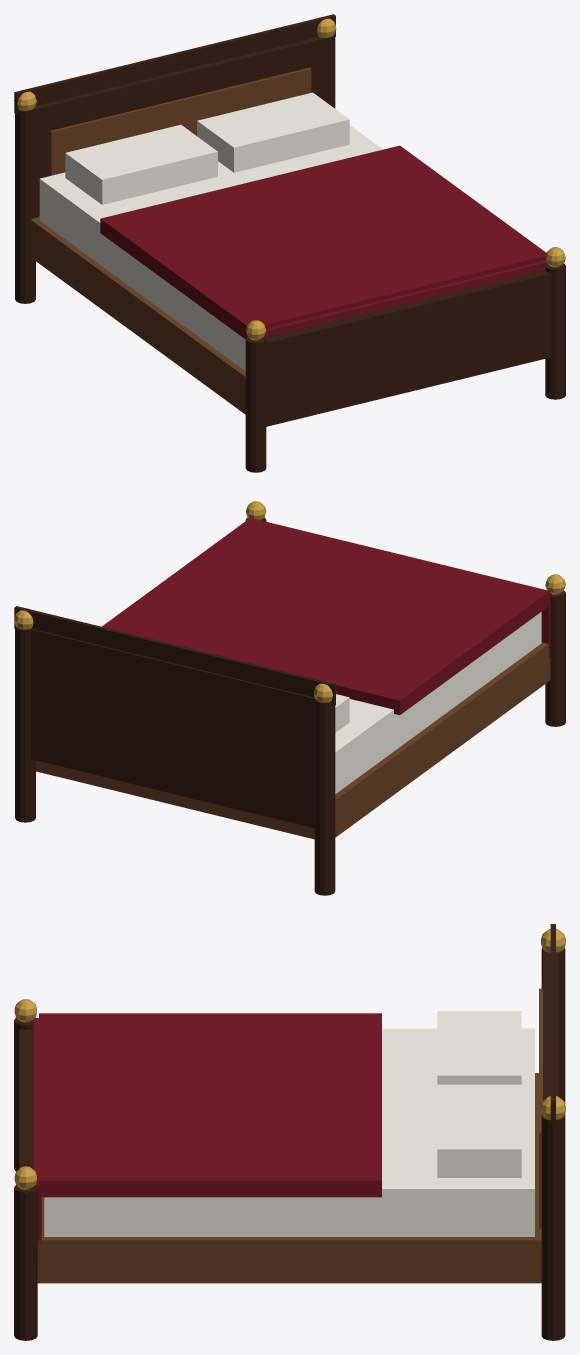
Rendered from cama_vitoriana.obj.
3 views of the same model, one above another, from view 1: azimuth 30°, elevation 25°; view 2: azimuth 150°, elevation 25°; view 3: azimuth 270°, elevation 25° (orthographic). The views are drawn at different scales.
Visible parts, largest first — view 1: parte_14_veludo_vinho, parte_11_madeira_escura, parte_13_linho, parte_01_madeira_escura, parte_12_madeira, parte_16_linho, parte_17_linho, parte_02_madeira, parte_00_madeira_escura, parte_03_madeira_escura, parte_07_madeira_escura, parte_15_veludo_vinho (+2 smaller); view 2: parte_14_veludo_vinho, parte_01_madeira_escura, parte_12_madeira, parte_13_linho, parte_00_madeira_escura, parte_03_madeira_escura, parte_04_madeira_escura, parte_07_madeira_escura; view 3: parte_14_veludo_vinho, parte_13_linho, parte_12_madeira, parte_17_linho, parte_16_linho, parte_04_madeira_escura, parte_08_madeira_escura, parte_11_madeira_escura, parte_01_madeira_escura, parte_07_madeira_escura, parte_03_madeira_escura, parte_15_veludo_vinho (+2 smaller).
Part boxes in pixels (x1,y1,x2,y2): parte_14_veludo_vinho: (100,145,546,339); parte_11_madeira_escura: (266,269,551,426); parte_13_linho: (39,125,382,370); parte_01_madeira_escura: (30,37,328,218); parte_12_madeira: (30,217,245,414); parte_16_linho: (65,124,217,204); parte_17_linho: (197,92,349,172); parte_02_madeira: (50,67,311,175); parte_00_madeira_escura: (14,14,335,114); parte_03_madeira_escura: (15,110,35,303); parte_07_madeira_escura: (245,336,266,472); parte_15_veludo_vinho: (264,260,547,337); parte_14_veludo_vinho: (102,518,549,715); parte_01_madeira_escura: (30,628,314,828); parte_12_madeira: (36,642,550,839); parte_13_linho: (335,612,541,793); parte_00_madeira_escura: (14,606,335,706); parte_03_madeira_escura: (314,699,335,895); parte_04_madeira_escura: (15,625,35,822); parte_07_madeira_escura: (545,590,565,726); parte_14_veludo_vinho: (39,1013,381,1197); parte_13_linho: (44,1028,534,1236); parte_12_madeira: (37,1073,541,1283); parte_17_linho: (437,1084,521,1177); parte_16_linho: (437,1011,521,1084); parte_04_madeira_escura: (541,1115,565,1340); parte_08_madeira_escura: (14,1185,37,1340); parte_11_madeira_escura: (19,1029,32,1168); parte_01_madeira_escura: (543,949,558,1100); parte_07_madeira_escura: (14,1018,33,1170); parte_03_madeira_escura: (541,948,565,1115); parte_15_veludo_vinho: (33,1018,41,1253).
Bounding box in the file's own units: 1.6 × 1 × 2.09.
